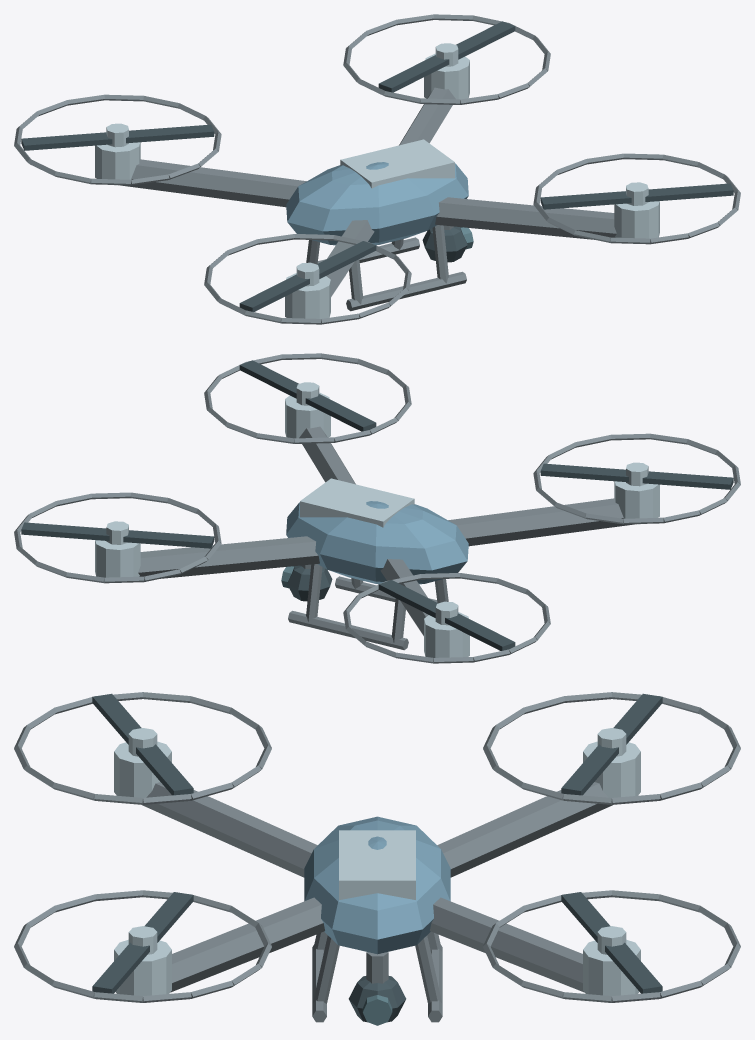
The model's file is uav.glb.
3 renders of one model, top to bottom at view 1: azimuth 30°, elevation 25°; view 2: azimuth 150°, elevation 25°; view 3: azimuth 270°, elevation 25°, orthographic. The views are drawn at different scales.
Parts seen in each view (by area): view 1: uav; view 2: uav; view 3: uav.
Boxes of the visible parts, box(x1,y1,x2,y2) form: uav: box(14, 14, 740, 324); uav: box(14, 353, 740, 663); uav: box(14, 692, 740, 1025).
Bounding box in the file's own units: 2.26 × 0.5199 × 2.26.
